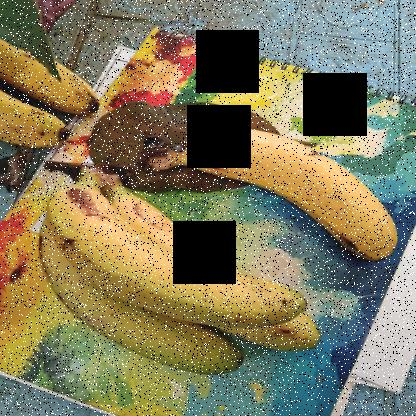ripe: (53, 178, 306, 327), (187, 125, 408, 254)
